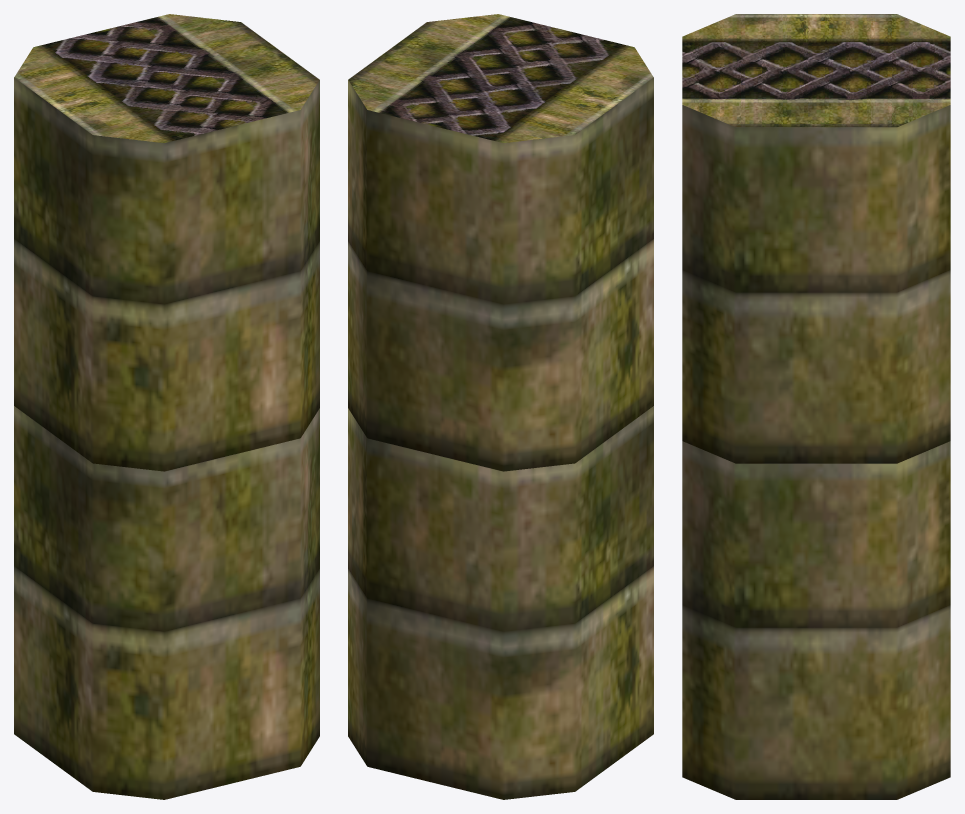
The model's file is OVERHILL_A_01_LINE387.fbx.
3 views of the same model, side by side, from view 1: azimuth 30°, elevation 25°; view 2: azimuth 150°, elevation 25°; view 3: azimuth 270°, elevation 25° (orthographic). The views are drawn at different scales.
Parts seen in each view (by area): view 1: OVERHILL_A_01_LINE387; view 2: OVERHILL_A_01_LINE387; view 3: OVERHILL_A_01_LINE387.
Boxes of the visible parts, x1=… form: OVERHILL_A_01_LINE387: x1=14, y1=14, x2=319, y2=799; OVERHILL_A_01_LINE387: x1=348, y1=14, x2=653, y2=799; OVERHILL_A_01_LINE387: x1=682, y1=14, x2=950, y2=799.
Size of the model in its own units: 9604 by 26550 by 9604.
1 material, 1 textured.
